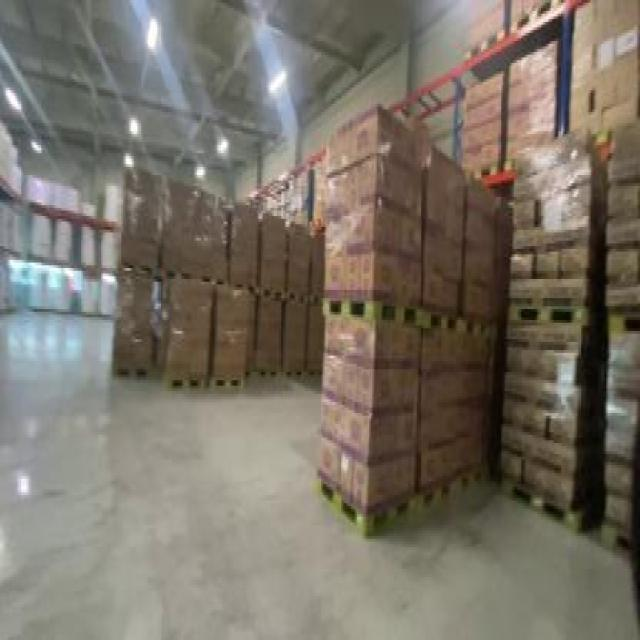box: (318, 112, 500, 531), (110, 172, 324, 394), (503, 156, 588, 525), (597, 123, 638, 588), (461, 60, 557, 170), (262, 150, 331, 230)
white_roll: (23, 265, 120, 320), (28, 175, 124, 224), (32, 213, 74, 257), (80, 227, 122, 271), (2, 115, 24, 194), (2, 205, 24, 249)
